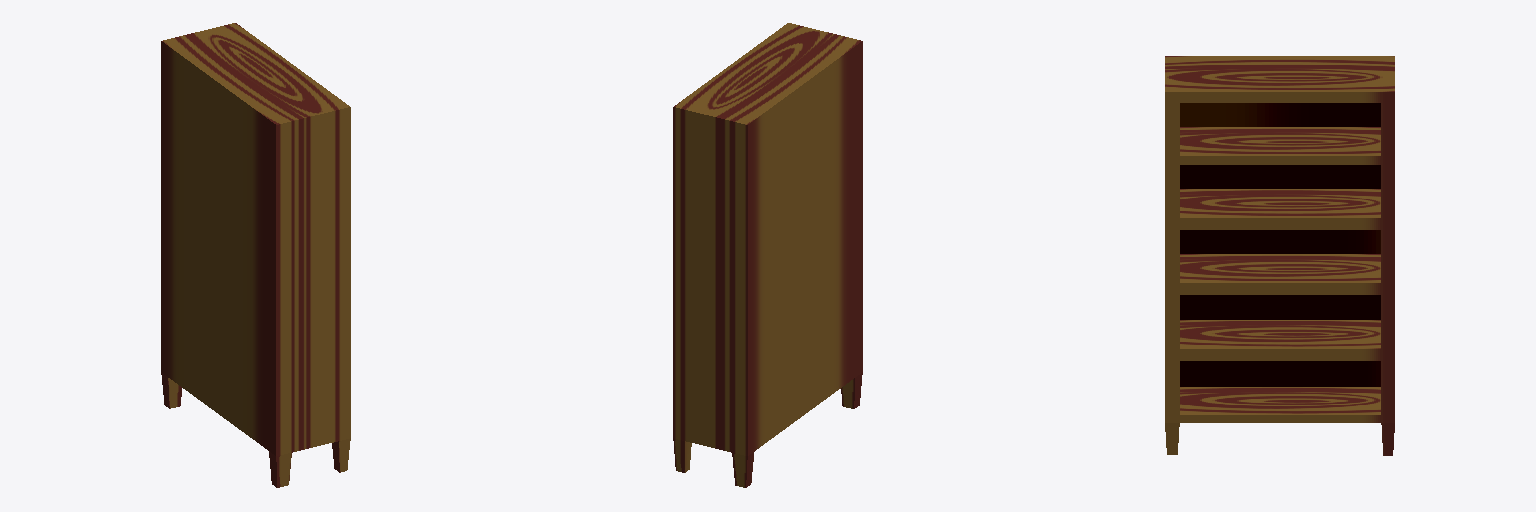
3 renders of one model, left to right at view 1: azimuth 30°, elevation 25°; view 2: azimuth 150°, elevation 25°; view 3: azimuth 270°, elevation 25°, orthographic.
Parts seen in each view (by area): view 1: pCube17; view 2: pCube17; view 3: pCube17.
Part boxes in pixels (x1,y1,x2,y2): pCube17: (161,23,350,487); pCube17: (673,23,862,487); pCube17: (1165,56,1394,455).
Bounding box in the file's own units: 13.55 × 63.37 × 36.27.
Materials: 1 (1 with a texture image).